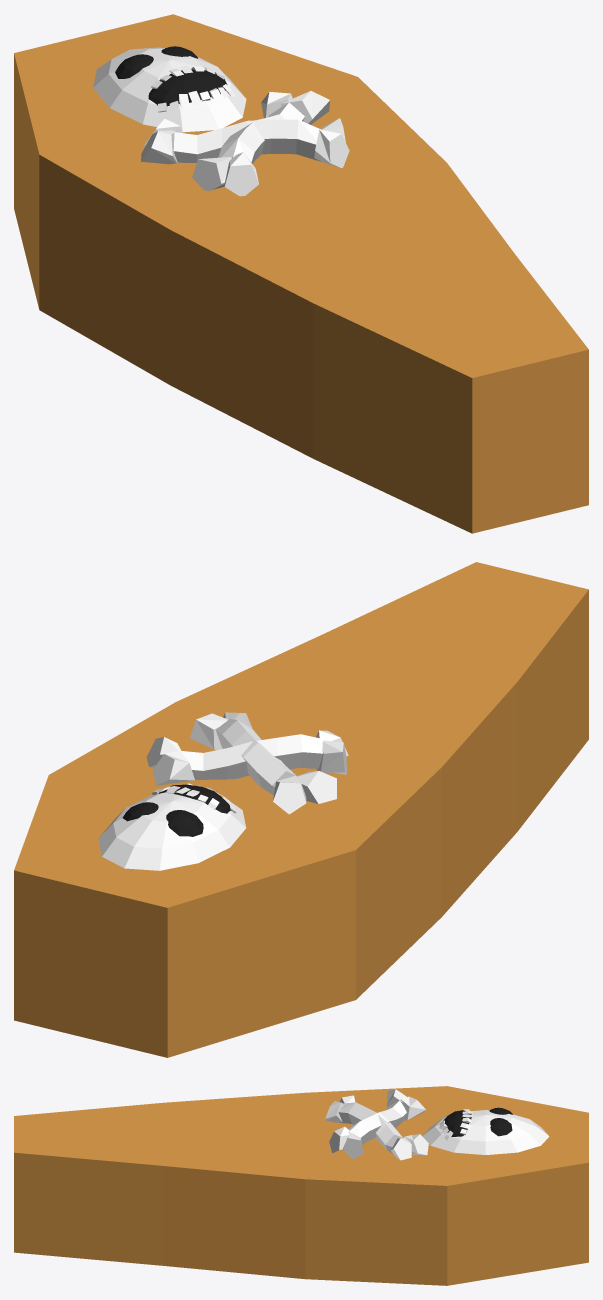
3 renders of one model, top to bottom at view 1: azimuth 30°, elevation 25°; view 2: azimuth 150°, elevation 25°; view 3: azimuth 270°, elevation 25°, orthographic. The views are drawn at different scales.
Parts seen in each view (by area): view 1: mesh_1532714782, mesh_1731877232, group_65316375, mesh_1813805357, group_1100882857, group_1793535187, group_370793497, group_601551821, group_344160750, group_1162282800; view 2: mesh_1532714782, mesh_1731877232, group_1100882857, group_65316375, group_1602254267, group_344160750, group_1174693310, group_1153995477, group_601551821, mesh_1781335795; view 3: mesh_1532714782, mesh_1731877232, group_1100882857, group_65316375, mesh_1813805357, group_1153995477, group_1162282800, group_1602254267, group_1174693310, group_370793497, mesh_685139013, group_1793535187.
Boxes of the visible parts, x1,y1,x2,y2 form: mesh_1532714782: [14, 14, 588, 533]; mesh_1731877232: [93, 47, 246, 132]; group_65316375: [173, 119, 321, 162]; mesh_1813805357: [148, 69, 227, 106]; group_1100882857: [218, 102, 304, 163]; group_1793535187: [224, 152, 258, 196]; group_370793497: [314, 129, 349, 168]; group_601551821: [192, 157, 231, 191]; group_344160750: [141, 130, 177, 164]; group_1162282800: [281, 91, 330, 124]; mesh_1532714782: [14, 562, 588, 1057]; mesh_1731877232: [98, 792, 246, 870]; group_1100882857: [182, 734, 323, 779]; group_65316375: [216, 718, 296, 794]; group_1602254267: [153, 750, 194, 785]; group_344160750: [296, 771, 336, 803]; group_1174693310: [273, 775, 306, 814]; group_1153995477: [190, 713, 228, 749]; group_601551821: [316, 740, 346, 774]; mesh_1781335795: [166, 810, 203, 836]; mesh_1532714782: [14, 1086, 588, 1285]; mesh_1731877232: [422, 1110, 549, 1154]; group_1100882857: [338, 1102, 402, 1153]; group_65316375: [348, 1100, 406, 1145]; mesh_1813805357: [443, 1110, 471, 1136]; group_1153995477: [343, 1132, 363, 1158]; group_1162282800: [391, 1137, 411, 1160]; group_1602254267: [404, 1134, 428, 1155]; group_1174693310: [401, 1096, 425, 1120]; group_370793497: [329, 1126, 349, 1152]; mesh_685139013: [490, 1118, 512, 1136]; group_1793535187: [325, 1101, 344, 1122].
Bounding box in the file's own units: 30 × 17.43 × 73.
